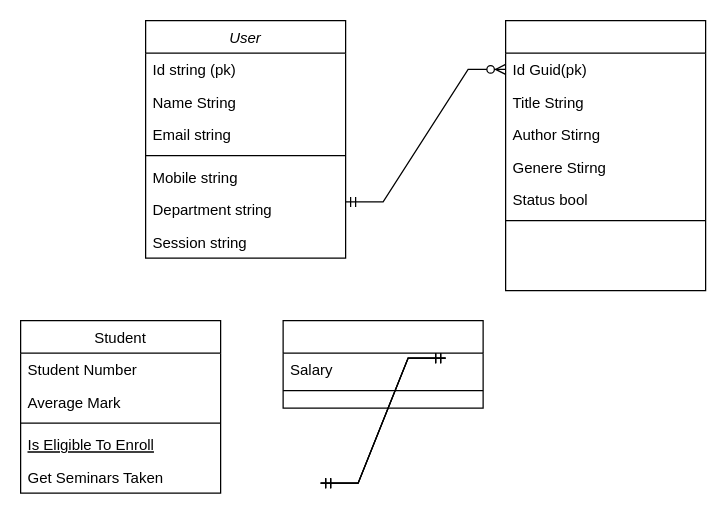
The diagram is 726 pixels wide and 514 high, and some of its shapes have lost their labels. Each missing label, with the box of its shape:
Books: (504, 19, 706, 291)
Professor: (282, 319, 483, 408)
